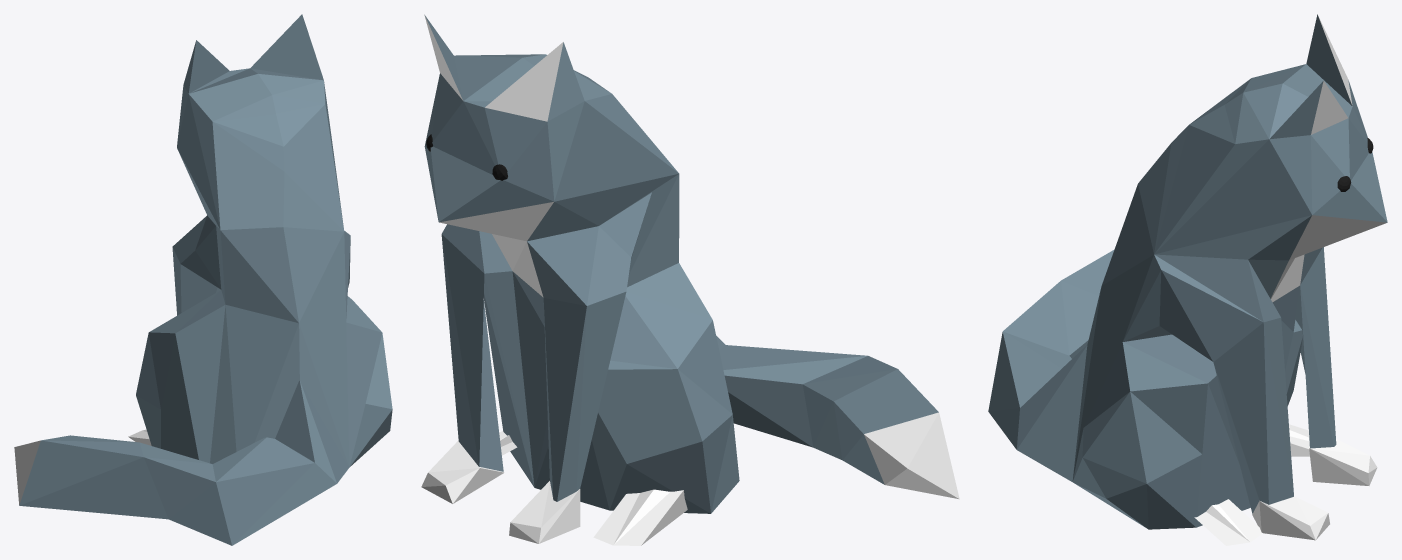
File: Kitty.glb
3 renders of one model, left to right at view 1: azimuth 30°, elevation 25°; view 2: azimuth 150°, elevation 25°; view 3: azimuth 270°, elevation 25°, orthographic. The views are drawn at different scales.
Visible parts, largest first — view 1: group403873966, group1684450172, group1244190520; view 2: group403873966, group1684450172, group1244190520, group312624762, group1883856165, group1605892424; view 3: group403873966, group1684450172, group1244190520, group1605892424, group1883856165, group1929142264, group312624762.
Part boxes in pixels (<box>): group403873966: <box>136,215,392,467</box>; group1684450172: <box>177,14,344,231</box>; group1244190520: <box>14,380,349,545</box>; group403873966: <box>441,174,739,513</box>; group1684450172: <box>424,14,678,241</box>; group1244190520: <box>716,336,959,499</box>; group312624762: <box>593,489,687,545</box>; group1883856165: <box>509,481,580,543</box>; group1605892424: <box>421,440,504,503</box>; group403873966: <box>1072,184,1336,529</box>; group1684450172: <box>1138,14,1387,260</box>; group1244190520: <box>988,249,1114,481</box>; group1605892424: <box>1252,496,1329,540</box>; group1883856165: <box>1309,439,1377,485</box>; group1929142264: <box>1194,499,1262,545</box>; group312624762: <box>1289,424,1309,456</box>.
Bounding box in the file's own units: 0.464 × 0.47 × 0.3645.
